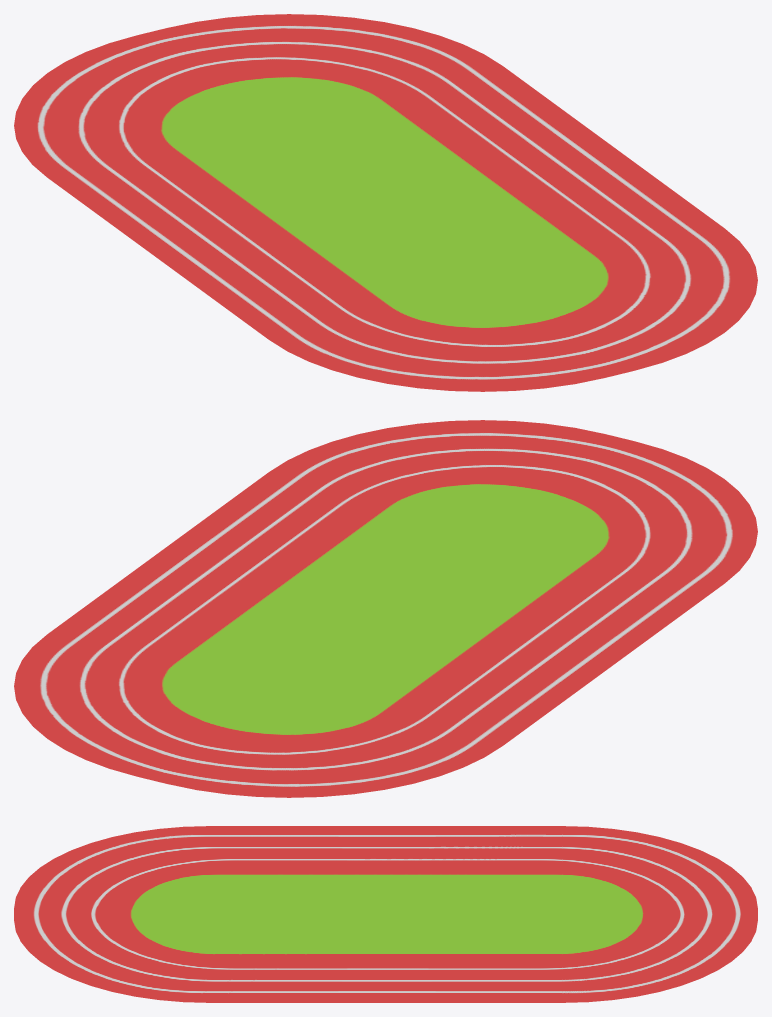
File: 學校操場.fbx
3 views of the same model, one above another, from view 1: azimuth 30°, elevation 25°; view 2: azimuth 150°, elevation 25°; view 3: azimuth 270°, elevation 25° (orthographic). The views are drawn at different scales.
Visible parts, largest first — view 1: Rectangle003; view 2: Rectangle003; view 3: Rectangle003.
Part boxes in pixels (x1,y1,x2,y2): Rectangle003: [14, 14, 757, 391]; Rectangle003: [14, 420, 757, 797]; Rectangle003: [14, 826, 757, 1002].
Size of the model in its own units: 1772 by 1.93e-13 by 3149.
Materials: 1 (1 with a texture image).
